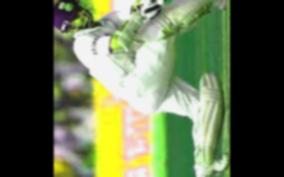batsman: (53, 0, 227, 177)
